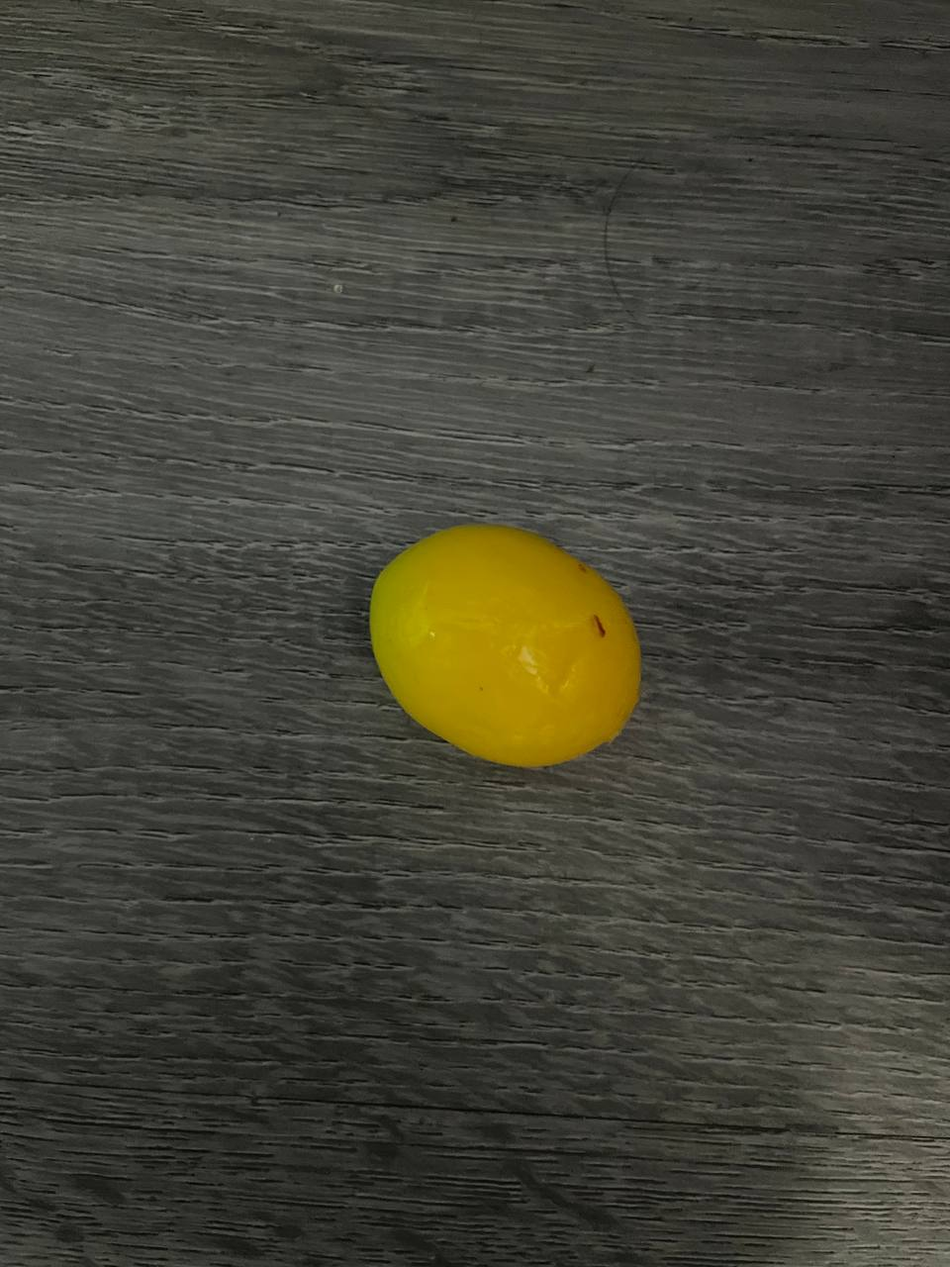lime_ripe: (369, 525, 644, 771)
